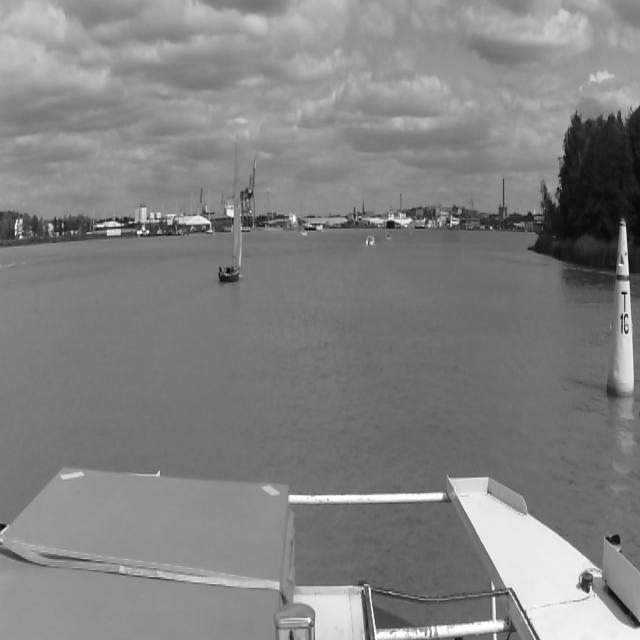buoy: (608, 220, 634, 394)
ship: (220, 131, 242, 281), (366, 236, 374, 247)
